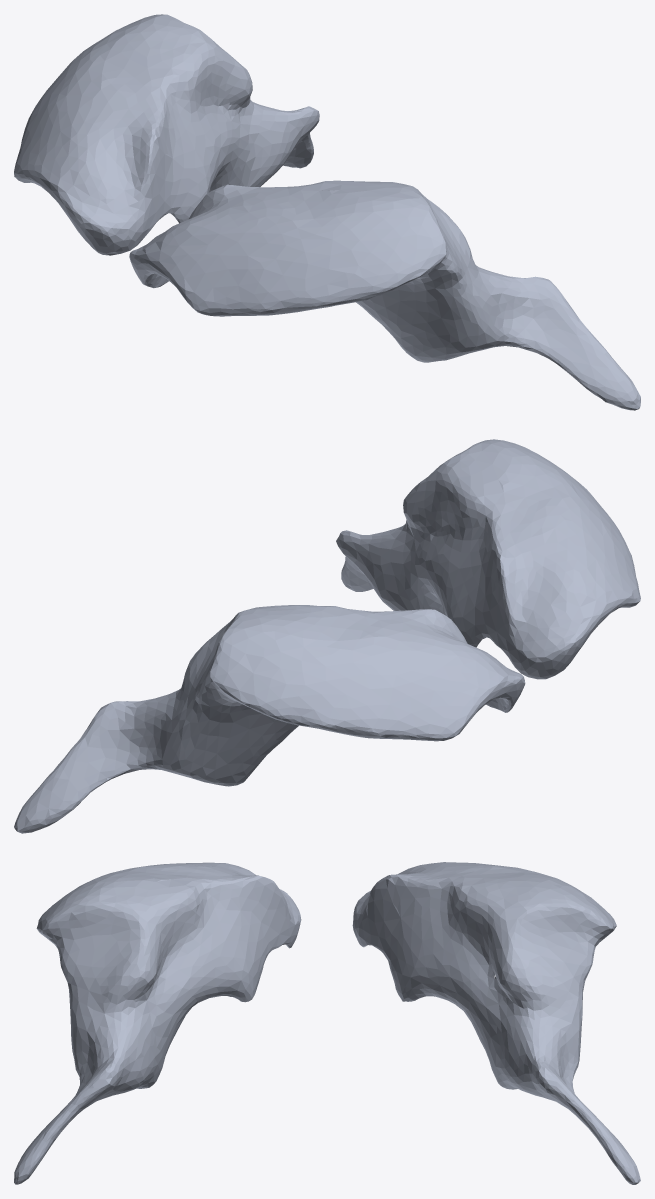
The picture shows the model from 3 angles, top to bottom: view 1: azimuth 30°, elevation 25°; view 2: azimuth 150°, elevation 25°; view 3: azimuth 270°, elevation 25°; orthographic projection. The views are drawn at different scales.
Parts seen in each view (by area): view 1: 835.obj; view 2: 835.obj; view 3: 835.obj.
Part boxes in pixels (x1=…): 835.obj: x1=14, y1=14, x2=640, y2=410; 835.obj: x1=14, y1=439, x2=640, y2=833; 835.obj: x1=14, y1=862, x2=640, y2=1184.
Bounding box in the file's own units: 3429 × 1964 × 5374.
